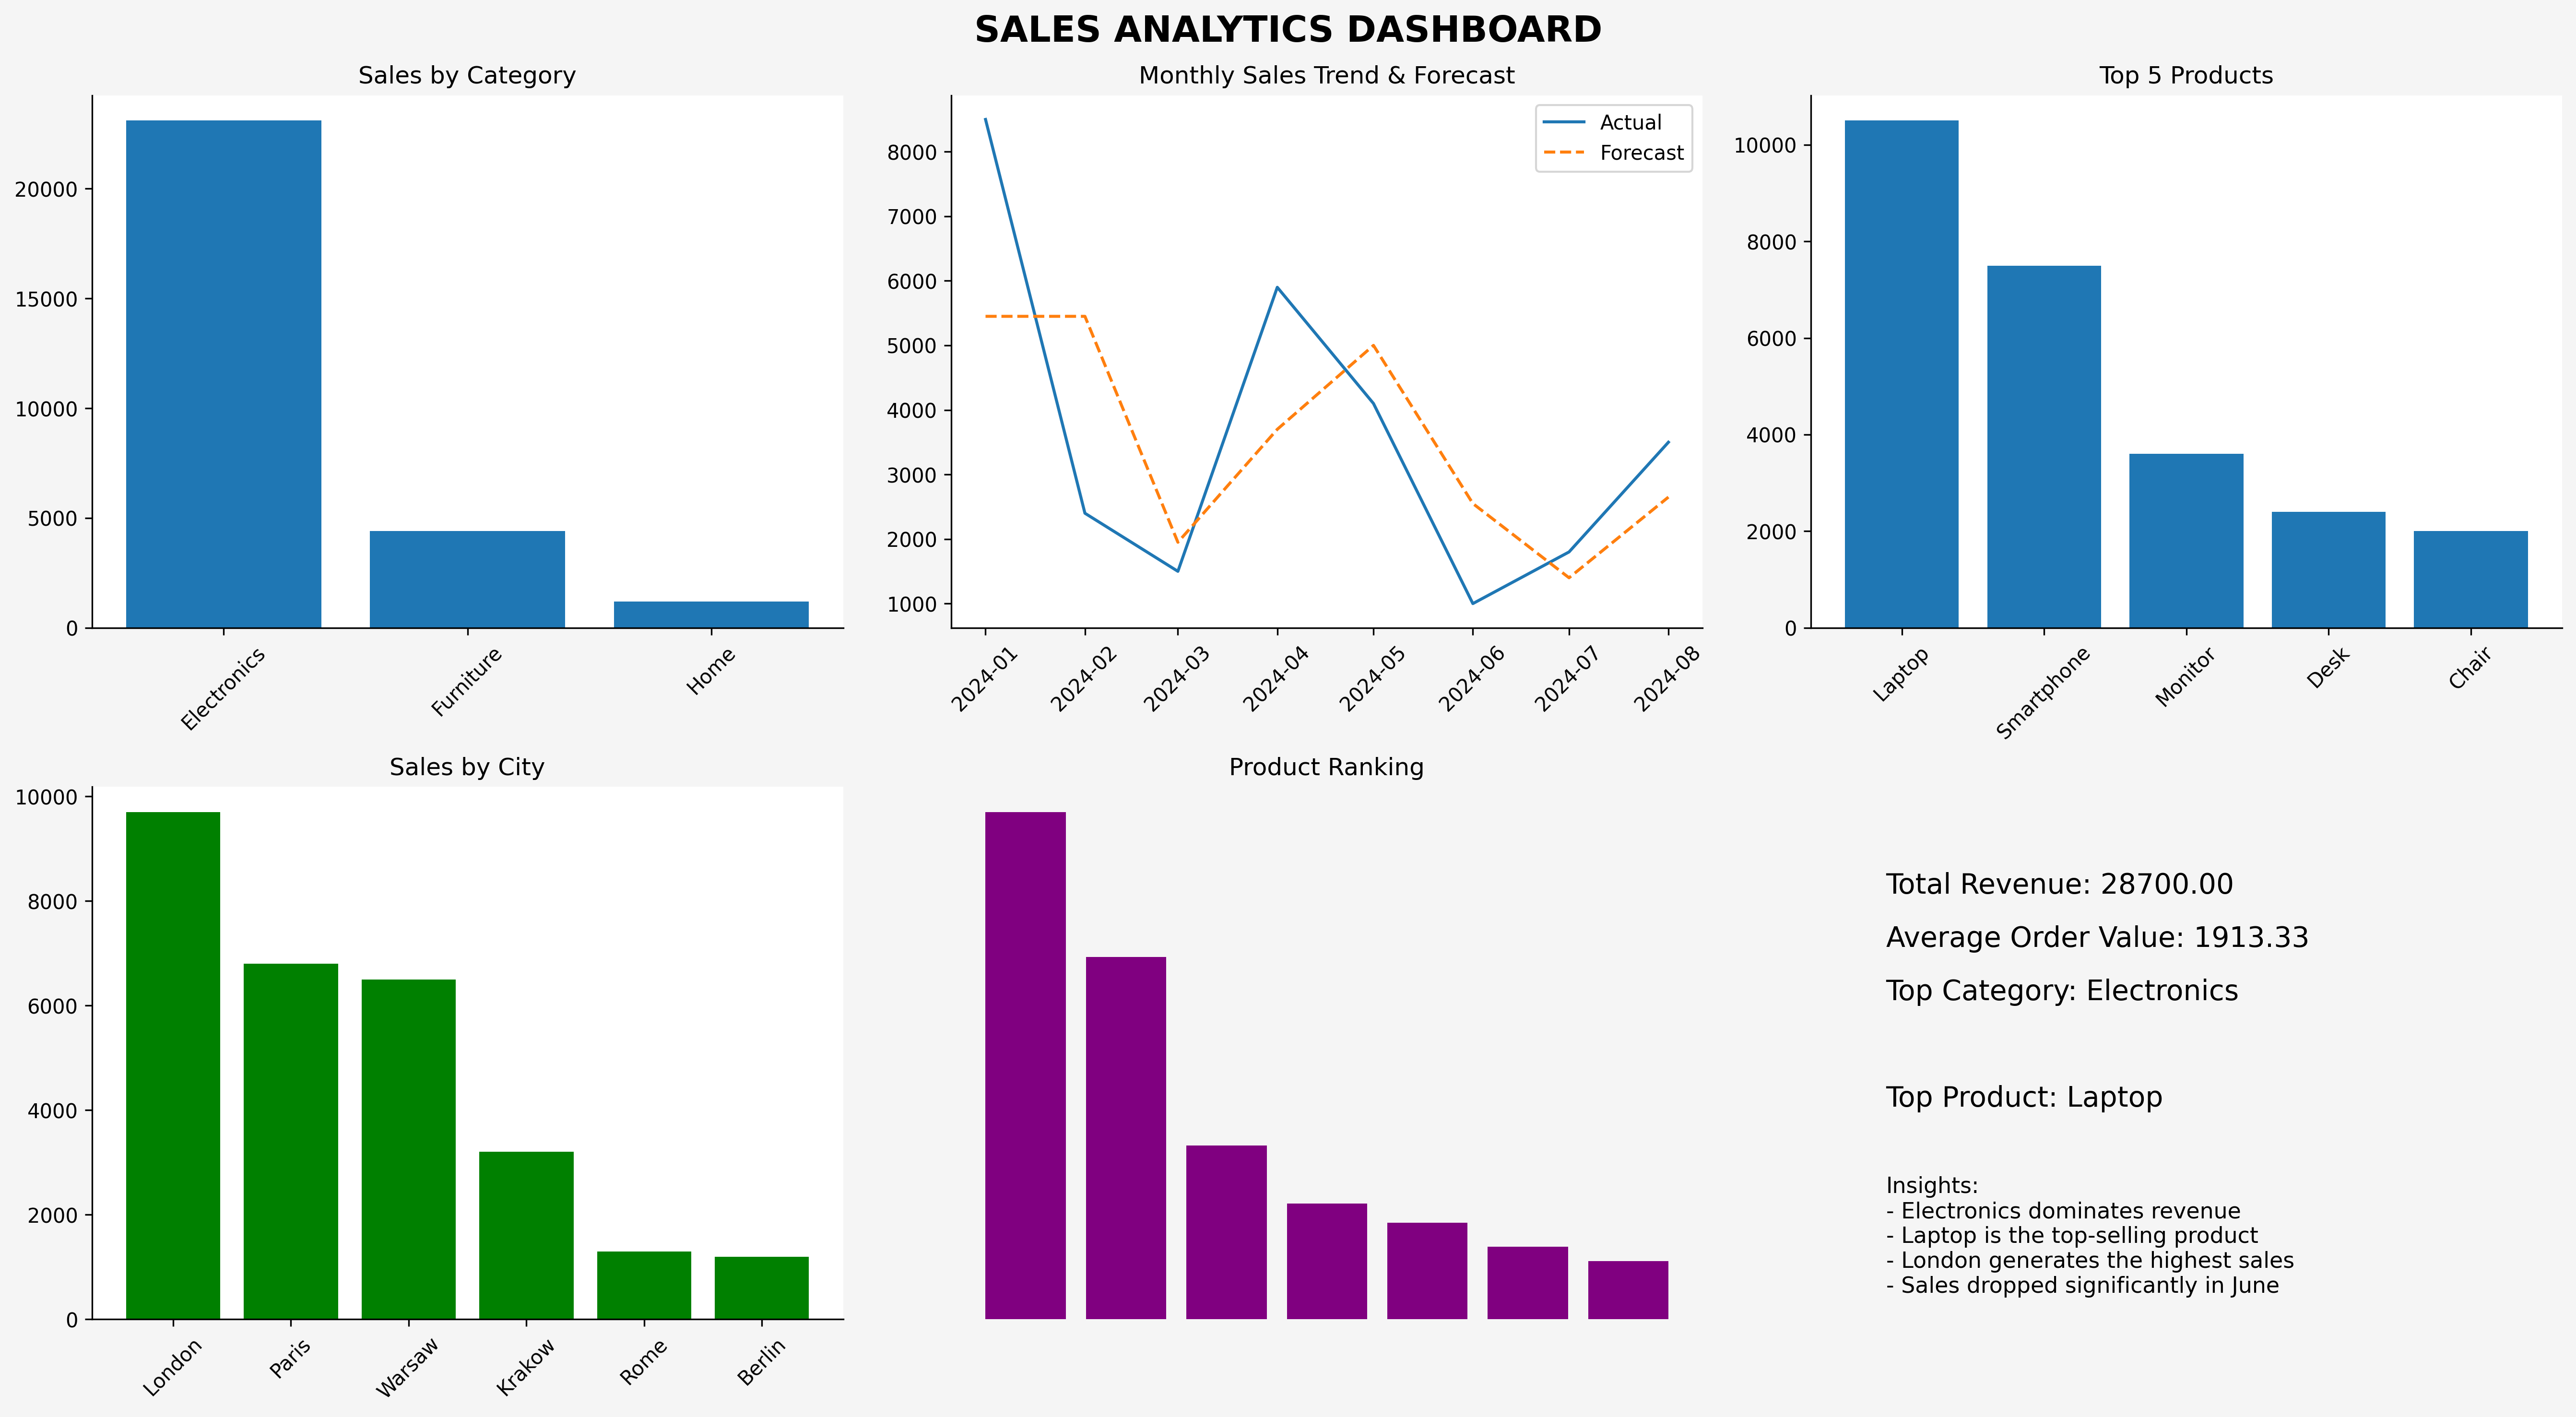

This screenshot's page, from the dashboard's own definition file:
{"tool":"powerbi","page":{"name":"Strona 1","canvas":[1280,720],"ordinal":0},"visuals":[{"type":"columnChart","fields":{"Category":["products.category"],"Y":["orders.Total Revenue"]},"box":[942.5,420,306.2,258.8],"z":0},{"type":"lineChart","fields":{"Category":["orders.order_date.Odmiana.Hierarchia dat.Miesiąc"],"Y":["orders.Total Revenue"]},"box":[47.5,180,425,280],"z":1000},{"type":"columnChart","fields":{"Category":["products.product_name"],"Y":["orders.Total Revenue"]},"box":[472.5,232.5,470,373.8],"z":2000},{"type":"columnChart","fields":{"Category":["customers.city"],"Y":["orders.Total Revenue"]},"box":[952.5,167.5,306.2,252.5],"z":3000},{"type":"cardVisual","fields":{"Data":["orders.Total Revenue"]},"box":[47.5,12.5,172.5,167.5],"z":4000},{"type":"cardVisual","fields":{"Data":["orders.Total Orders"]},"box":[261.2,12.5,172.5,167.5],"z":5000},{"type":"cardVisual","fields":{"Data":["orders.Avg Order Value"]},"box":[472.5,12.5,172.5,167.5],"z":6000},{"type":"slicer","fields":{"Values":["customers.city"]},"box":[47.5,495,150,150],"z":7000},{"type":"slicer","fields":{"Values":["products.category"]},"box":[293.8,495,140,150],"z":8000},{"type":"slicer","fields":{"Values":["orders.order_date"]},"box":[990,45,258.8,102.5],"z":9000},{"type":"textbox","box":[711.2,60,231.2,87.5],"z":10000}]}

Visuals, with their boxes in screenshot pixels (x1, y1, x2, y2), scaled from the page's 1280x720 canvas onto the 2576x1417 screenshot:
columnChart - products.category x orders.Total Revenue: crop(1897, 827, 2513, 1336)
lineChart - orders.order_date.Odmiana.Hierarchia dat.Miesiąc x orders.Total Revenue: crop(95, 354, 951, 905)
columnChart - products.product_name x orders.Total Revenue: crop(951, 458, 1897, 1193)
columnChart - customers.city x orders.Total Revenue: crop(1917, 330, 2533, 827)
cardVisual - orders.Total Revenue: crop(95, 24, 443, 354)
cardVisual - orders.Total Orders: crop(526, 24, 873, 354)
cardVisual - orders.Avg Order Value: crop(951, 24, 1298, 354)
slicer - customers.city: crop(95, 974, 398, 1269)
slicer - products.category: crop(591, 974, 873, 1269)
slicer - orders.order_date: crop(1992, 89, 2513, 290)
textbox: crop(1431, 118, 1897, 290)
